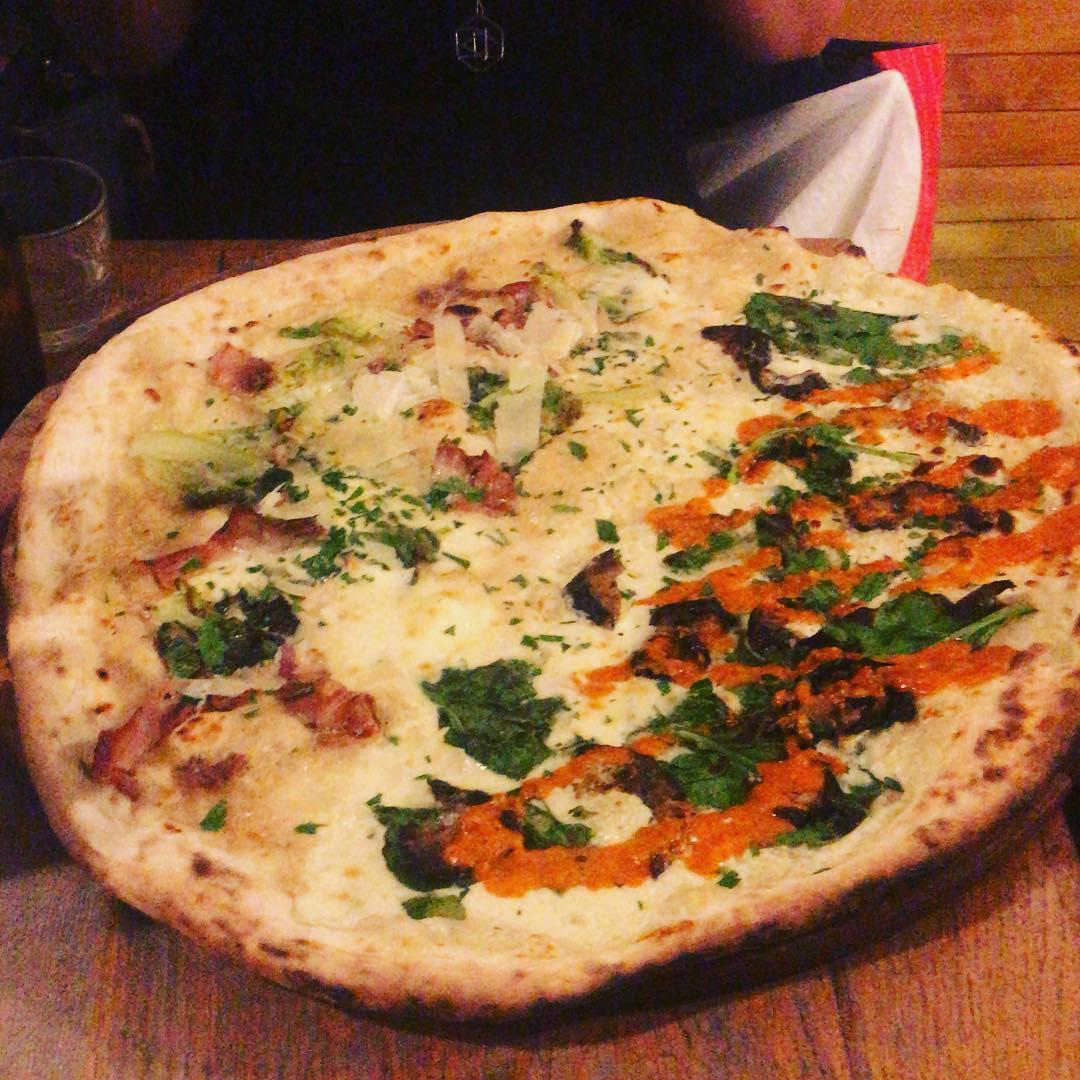Basil: (795, 566, 1034, 666), (636, 669, 791, 818), (737, 280, 985, 373), (416, 642, 573, 781), (354, 775, 490, 930), (762, 760, 907, 867), (768, 411, 933, 500), (145, 595, 300, 663), (505, 794, 589, 860)
Ham: (133, 504, 325, 591), (267, 643, 390, 752), (78, 674, 191, 790), (401, 257, 558, 339), (424, 434, 529, 526), (191, 337, 282, 403)
Pizza: (0, 195, 1080, 1028)
